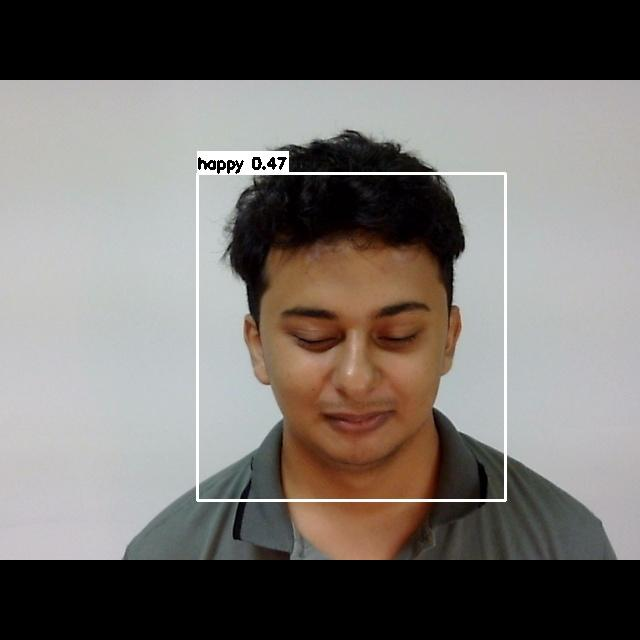Sad: (254, 279, 458, 464)
